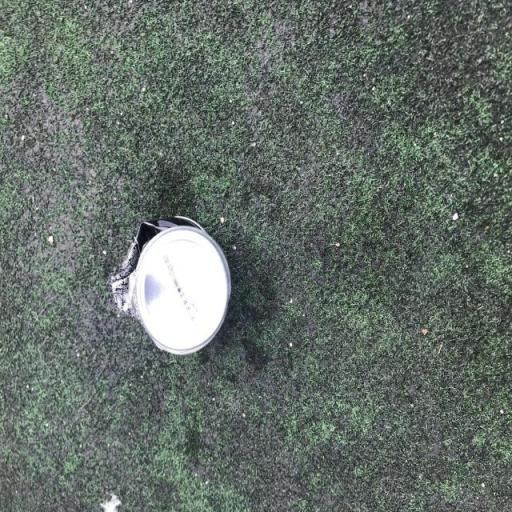metal: (112, 194, 248, 402)
